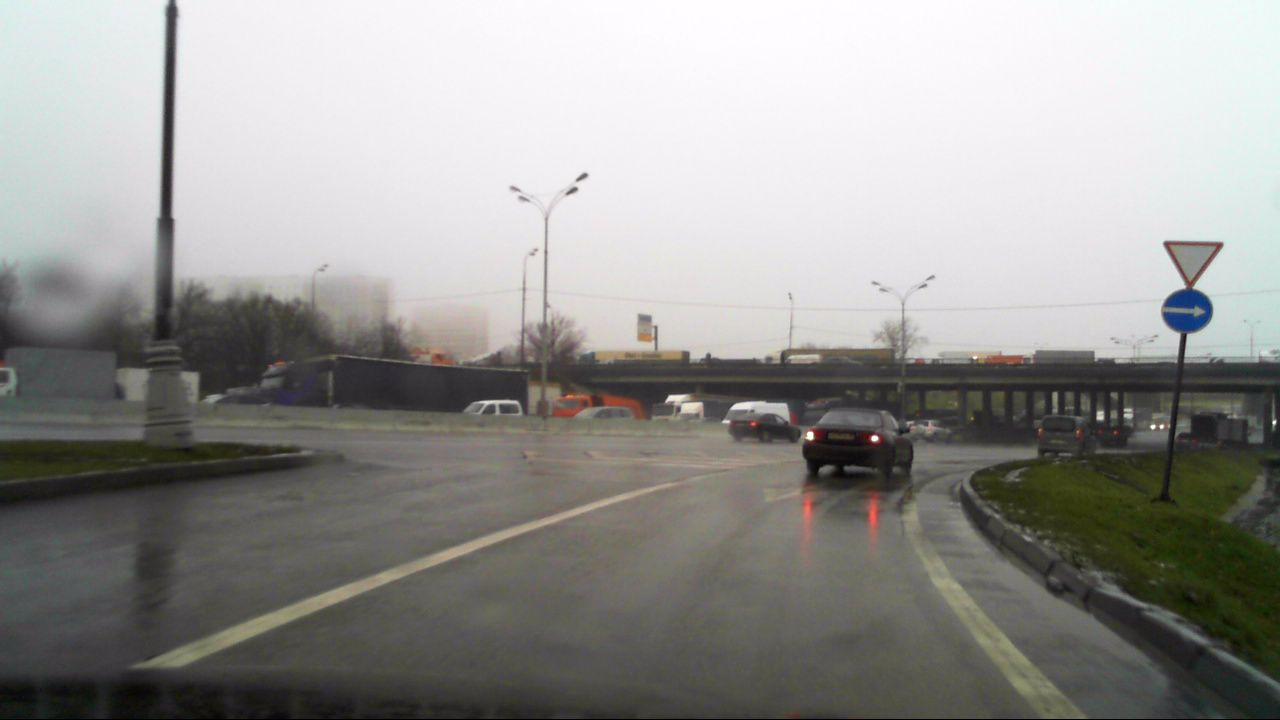Turn Right: (1161, 289, 1213, 333)
